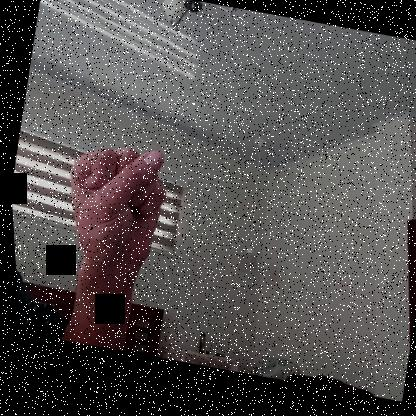S: (45, 134, 176, 281)
